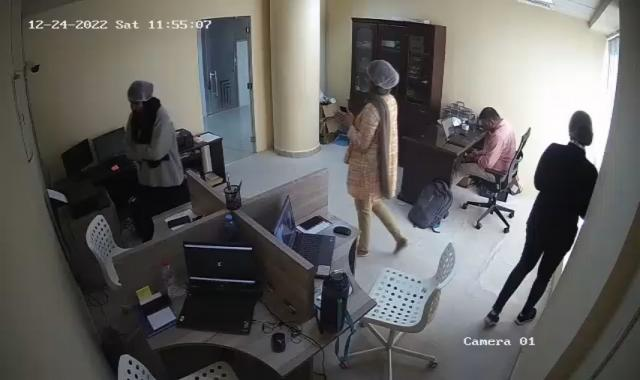hairnet: (364, 58, 398, 100), (568, 110, 595, 153), (125, 79, 154, 114)
no_hairnet: (478, 104, 502, 134)
